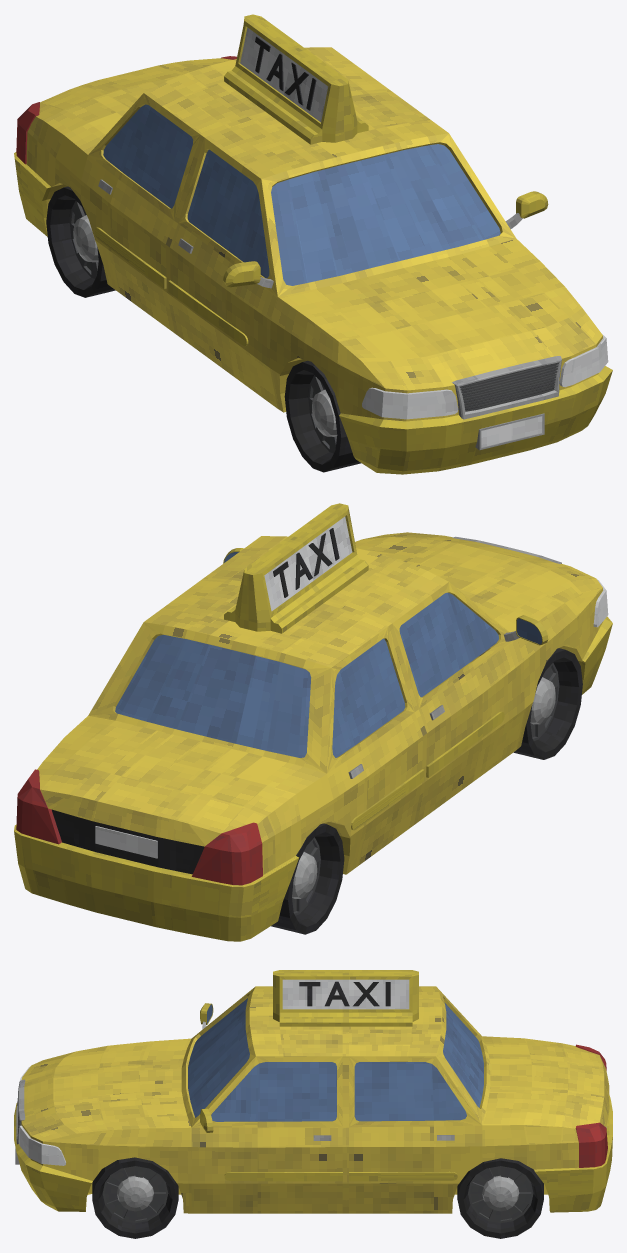
File: Taxi.glb
The picture shows the model from 3 angles, top to bottom: view 1: azimuth 30°, elevation 25°; view 2: azimuth 150°, elevation 25°; view 3: azimuth 270°, elevation 25°; orthographic projection. The views are drawn at different scales.
Visible parts, largest first — view 1: taxi; view 2: taxi; view 3: taxi.
Part boxes in pixels (x1,y1,x2,y2): taxi: (14,14,612,474); taxi: (14,503,612,941); taxi: (14,970,612,1238).
Bounding box in the file's own units: 5.26 × 4.48 × 11.02.
1 material, 1 textured.
